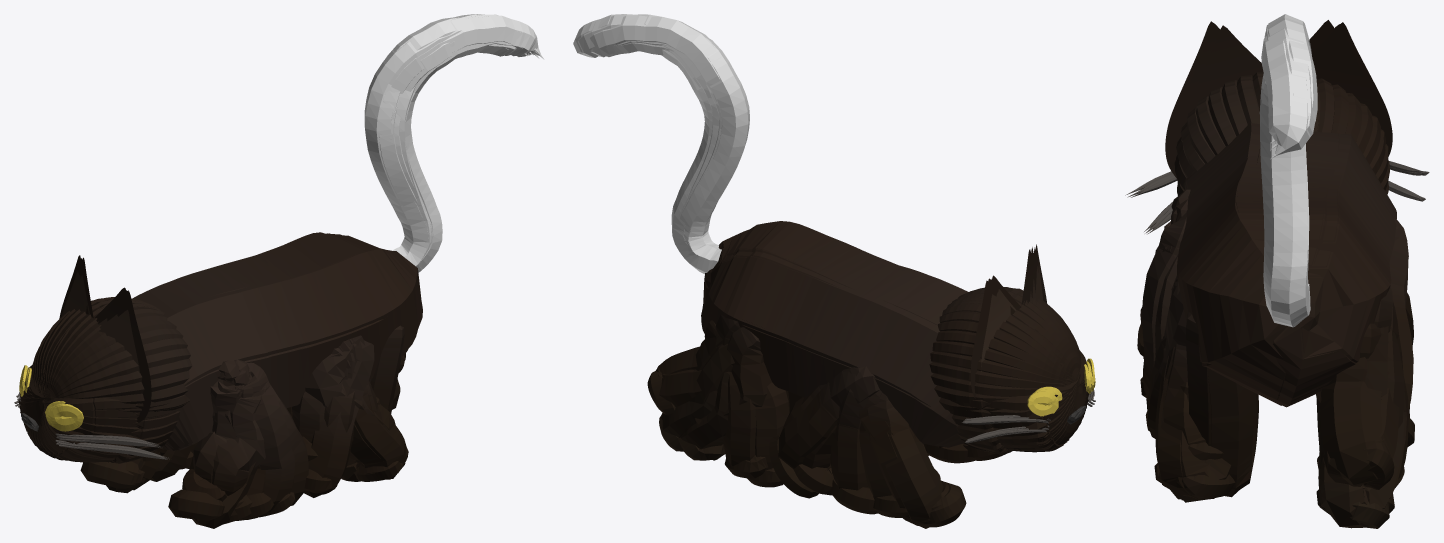
The model's file is Catwalk.fbx.
3 renders of one model, left to right at view 1: azimuth 30°, elevation 25°; view 2: azimuth 150°, elevation 25°; view 3: azimuth 270°, elevation 25°, orthographic. The views are drawn at different scales.
Parts seen in each view (by area): view 1: NewLayer0, NewLayer1, NewLayer2; view 2: NewLayer0, NewLayer1, NewLayer2; view 3: NewLayer0, NewLayer1, NewLayer2.
Boxes of the visible parts, x1,y1,x2,y2 form: NewLayer0: (14,232,422,463); NewLayer1: (80,325,408,528); NewLayer2: (364,14,543,272); NewLayer0: (701,221,1095,454); NewLayer1: (647,314,1006,528); NewLayer2: (573,14,749,274); NewLayer0: (1125,20,1429,407); NewLayer1: (1137,189,1414,528); NewLayer2: (1259,14,1317,327).
Size of the model in its own units: 2.7 by 2.12 by 1.06.
